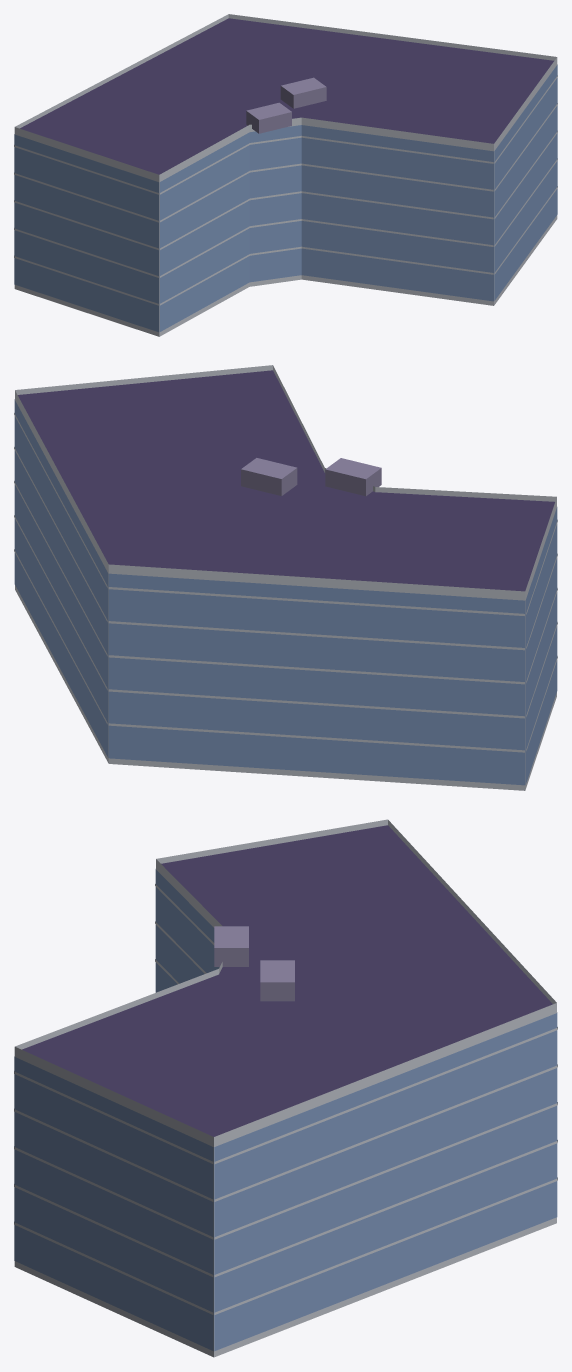
The model's file is b-056-public-health-family-medicine-day.glb.
The picture shows the model from 3 angles, top to bottom: view 1: azimuth 30°, elevation 25°; view 2: azimuth 150°, elevation 25°; view 3: azimuth 270°, elevation 25°; orthographic projection. The views are drawn at different scales.
Visible parts, largest first — view 1: campus/b-056-public-health-family-medicine-day-0; view 2: campus/b-056-public-health-family-medicine-day-0; view 3: campus/b-056-public-health-family-medicine-day-0.
Boxes of the visible parts, <box> form: campus/b-056-public-health-family-medicine-day-0: <box>14,14,557,336</box>; campus/b-056-public-health-family-medicine-day-0: <box>14,365,557,790</box>; campus/b-056-public-health-family-medicine-day-0: <box>14,819,557,1357</box>.
Size of the model in its own units: 65.21 by 22.3 by 47.08.
